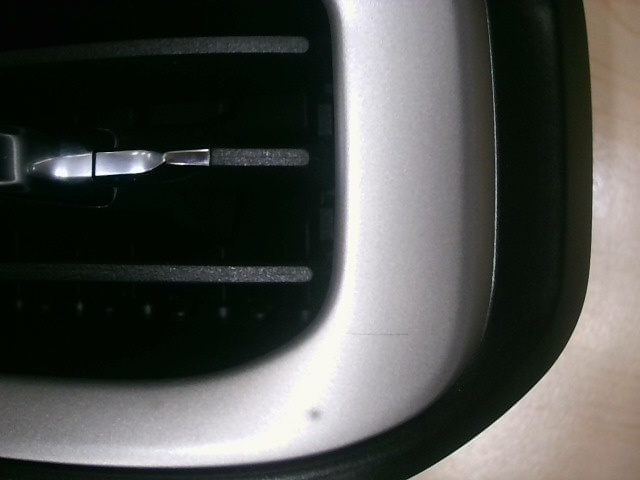NG: (342, 317, 427, 351)
